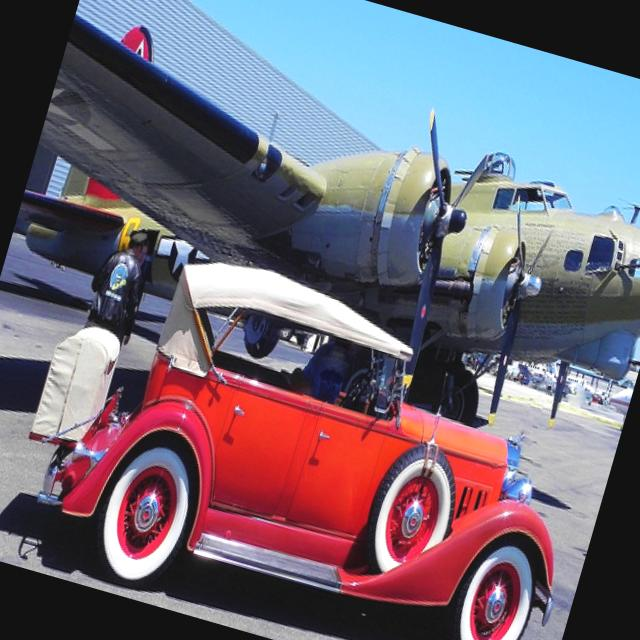Vehicle: (0, 217, 618, 640), (504, 366, 518, 381), (590, 394, 604, 406)
